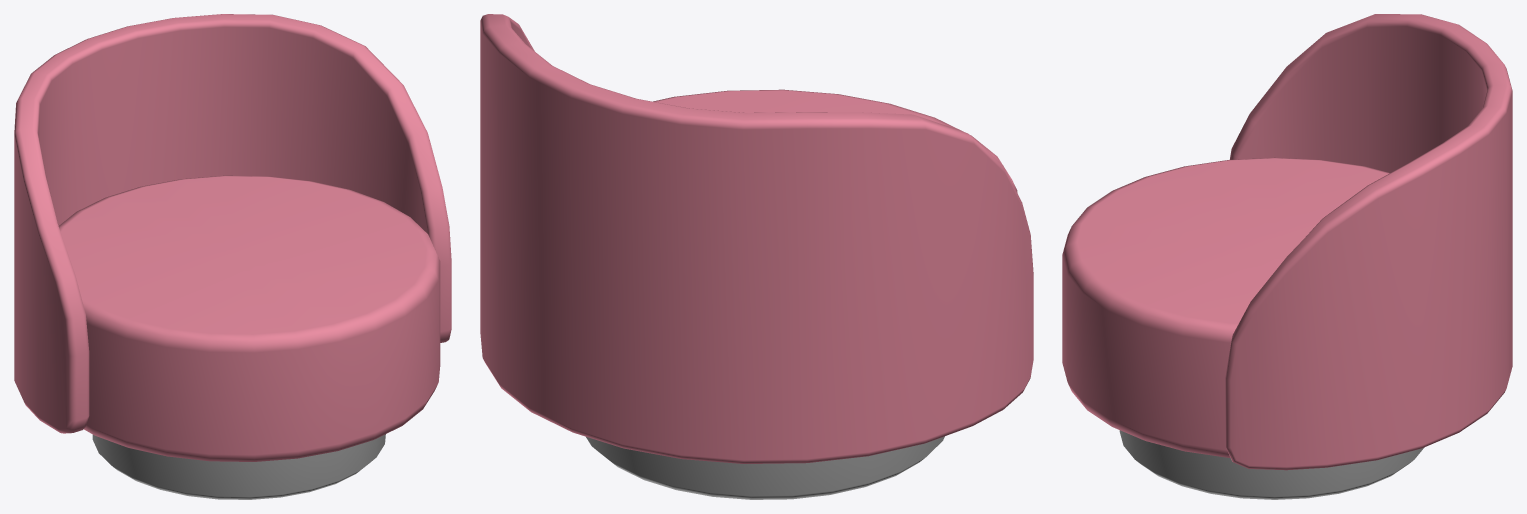
The model's file is Armchair_2.glb.
3 renders of one model, left to right at view 1: azimuth 30°, elevation 25°; view 2: azimuth 150°, elevation 25°; view 3: azimuth 270°, elevation 25°, orthographic. The views are drawn at different scales.
Parts seen in each view (by area): view 1: Armchair_2; view 2: Armchair_2; view 3: Armchair_2.
Part boxes in pixels (<box>): Armchair_2: <box>14,14,451,499</box>; Armchair_2: <box>480,14,1033,499</box>; Armchair_2: <box>1062,14,1512,499</box>.
Bounding box in the file's own units: 1.2 × 0.9789 × 1.14.
1 material, 1 textured.
